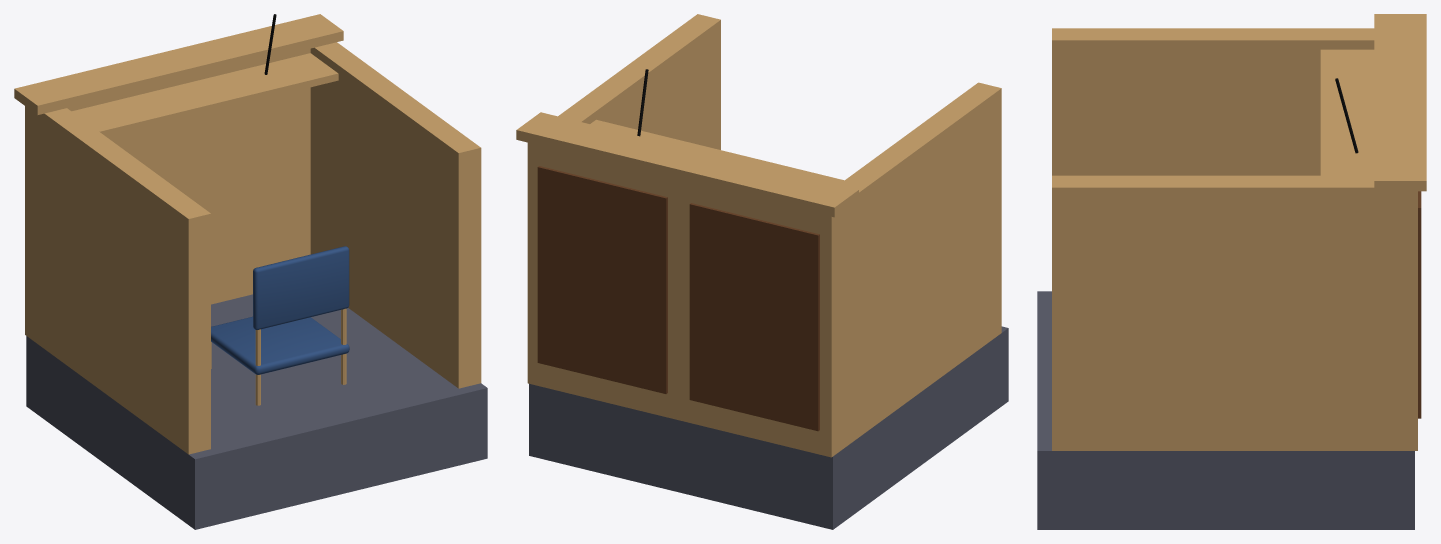
File: justice.court.witness_box.glb
3 renders of one model, left to right at view 1: azimuth 30°, elevation 25°; view 2: azimuth 150°, elevation 25°; view 3: azimuth 270°, elevation 25°, orthographic. The views are drawn at different scales.
Visible parts, largest first — view 1: main__glulam, main__carpet, main__fabric_blue; view 2: main__glulam, main__hardwood, main__carpet; view 3: main__glulam, main__carpet, main__hardwood.
Boxes of the visible parts, box(x1,y1,x2,y2) form: main__glulam: box(14, 14, 481, 454); main__carpet: box(26, 294, 487, 529); main__fabric_blue: box(211, 246, 349, 374); main__glulam: box(516, 14, 1001, 457); main__hardwood: box(537, 166, 819, 431); main__carpet: box(529, 326, 1008, 529); main__glulam: box(1052, 14, 1426, 450); main__carpet: box(1037, 291, 1414, 529); main__hardwood: box(1418, 191, 1421, 418).
Bounding box in the file's own units: 1.36 × 1.56 × 1.34.
